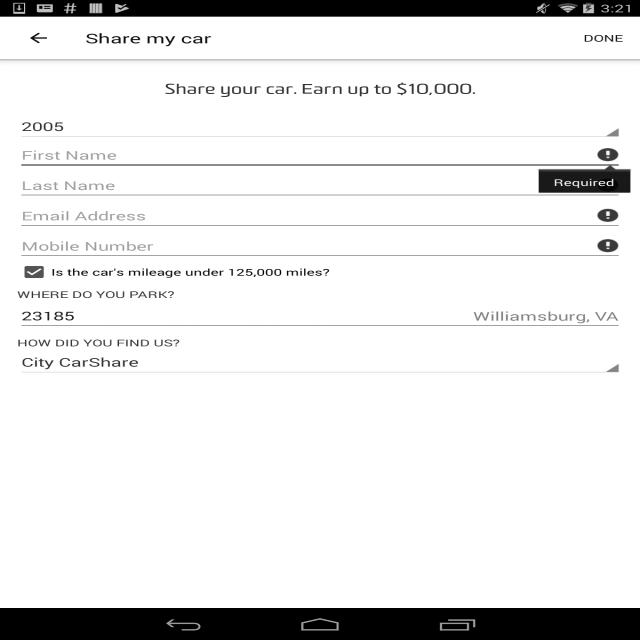CheckBox: (17, 261, 623, 283)
EditText: (17, 170, 623, 201), (17, 140, 623, 170), (17, 201, 623, 231), (17, 231, 623, 261), (17, 301, 623, 331)
ImageButton: (9, 17, 68, 59)
Spinner: (17, 113, 623, 140), (17, 349, 623, 376)
TextView: (17, 70, 623, 108), (21, 118, 606, 134), (21, 354, 606, 370), (111, 308, 619, 324), (86, 29, 212, 47), (17, 336, 180, 349), (17, 288, 174, 301), (575, 22, 631, 54)
